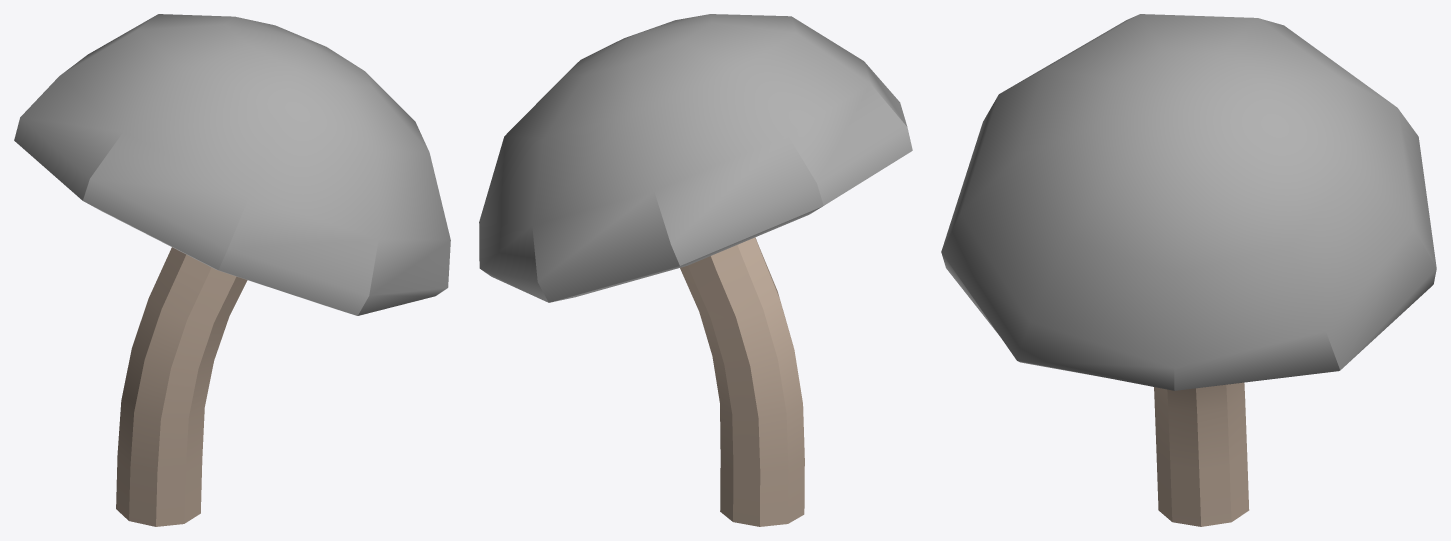
File: Curved_Mushroom.fbx
3 renders of one model, left to right at view 1: azimuth 30°, elevation 25°; view 2: azimuth 150°, elevation 25°; view 3: azimuth 270°, elevation 25°, orthographic. The views are drawn at different scales.
Parts seen in each view (by area): view 1: pasted__pSphere1; view 2: pasted__pSphere1; view 3: pasted__pSphere1.
Boxes of the visible parts, x1=… form: pasted__pSphere1: x1=14, y1=14, x2=450, y2=526; pasted__pSphere1: x1=479, y1=14, x2=912, y2=526; pasted__pSphere1: x1=941, y1=14, x2=1436, y2=526.
Size of the model in its own units: 0.7659 by 0.9052 by 0.8251.
